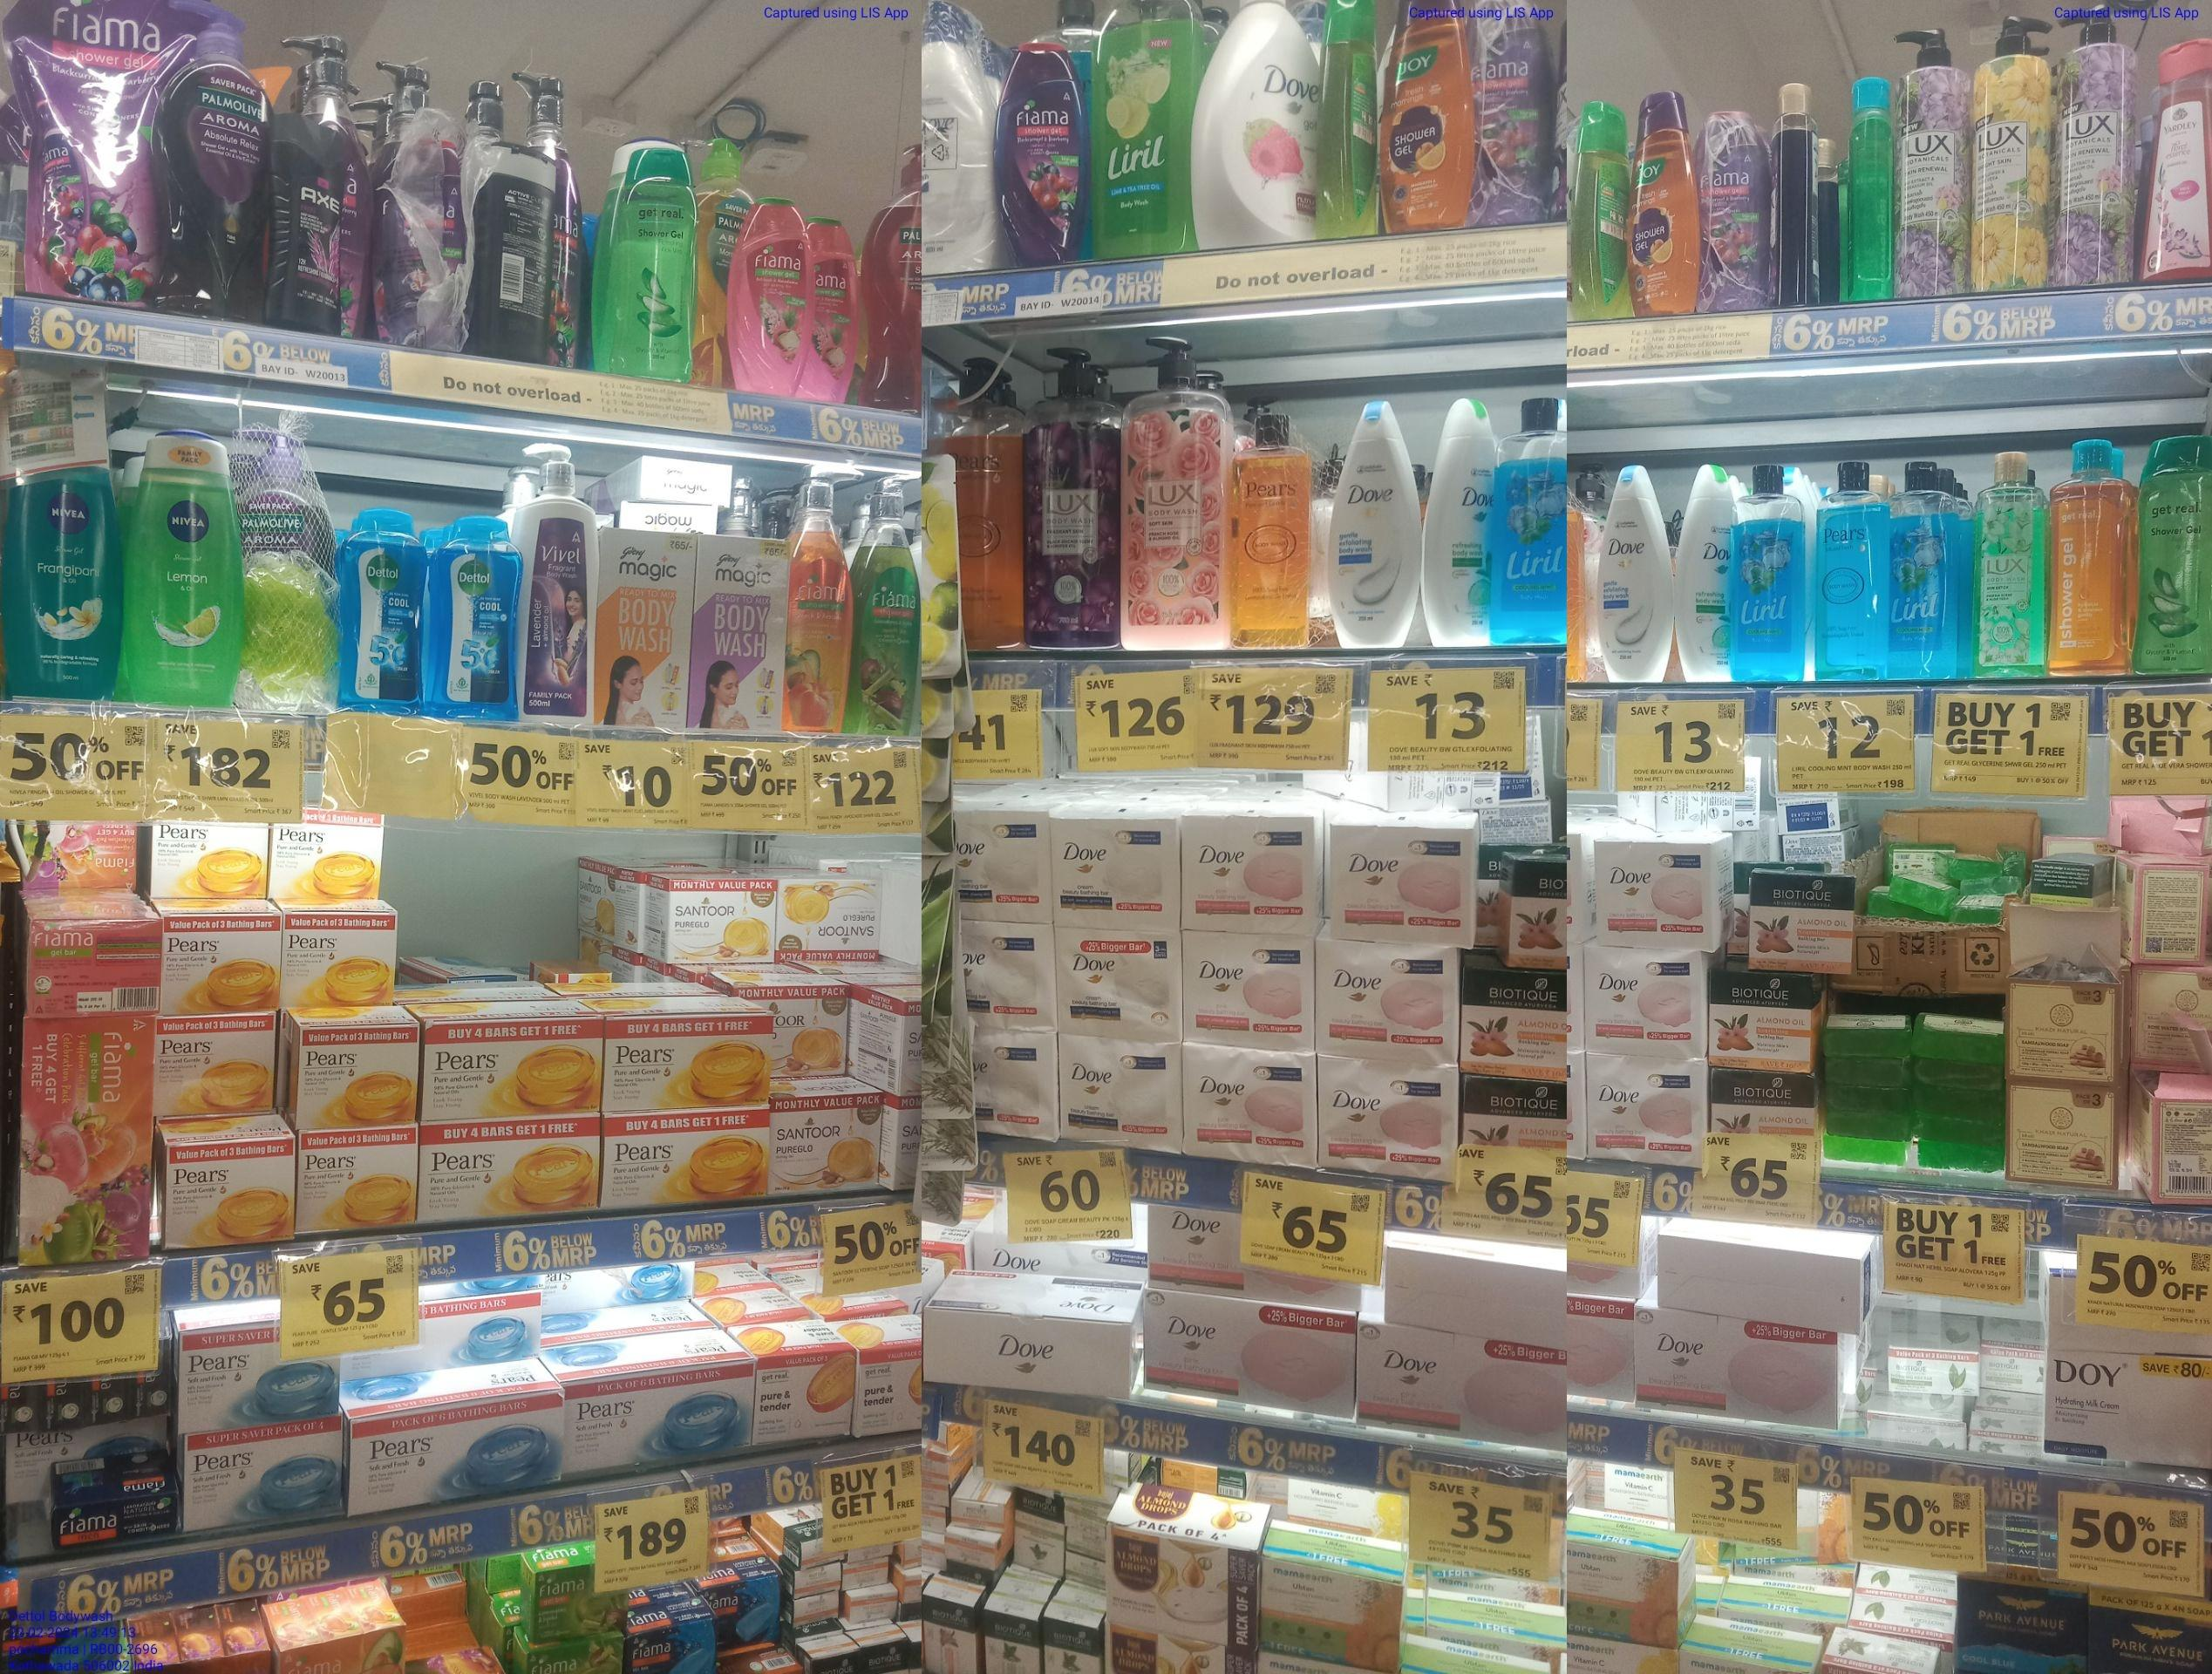Dettol_Bodywash_Cool: (334, 506, 424, 719), (427, 512, 517, 721)
Dove_Gentle_Exfoliating_Body_Wash_250ML: (1322, 399, 1419, 647), (1598, 461, 1676, 686)
Dove_Refreshing_Body_Wash_250ML: (1424, 399, 1491, 645), (1679, 459, 1730, 682)
Fiama_Shower_Gel_Patchouli_and_Macadamia_250ML: (728, 199, 807, 397), (809, 211, 862, 403)
Joy_Shower_Gel_Mandarin_and_Lemongrass_250ML: (1384, 0, 1479, 230), (1630, 88, 1700, 320)
Liril_Cooling_Mint_Body_Wash_250ML: (1495, 397, 1568, 647), (1887, 461, 1961, 686), (1730, 464, 1804, 686)
Lux_Body_Wash_Skin_Detox_Freesia_Scent_and_Alove_Vera_245ML: (1969, 454, 2047, 673)
Nivea_Shower_Gel_Frangipani_and_Oil_250ML: (16, 462, 116, 696)
Nivea_Shower_Gel_Lemon_and_Oil_250ML: (121, 426, 241, 707)
Pears_Pure_Glycerin_and_Mint_Extracts_Body_Wash_250ML: (1809, 457, 1883, 682)
